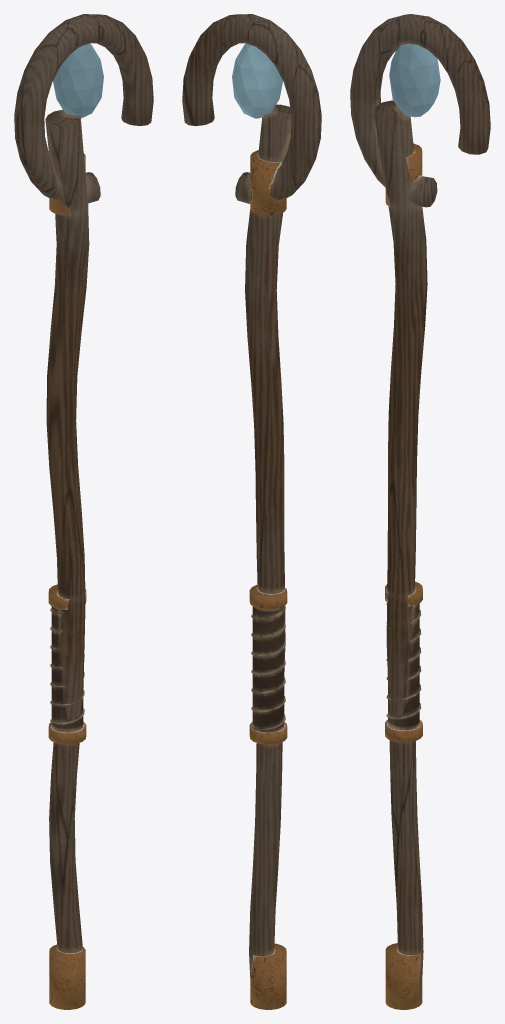
The model's file is eq_staff_1.glb.
3 renders of one model, left to right at view 1: azimuth 30°, elevation 25°; view 2: azimuth 150°, elevation 25°; view 3: azimuth 330°, elevation 25°, orthographic.
Visible parts, largest first — view 1: eq_staff_1; view 2: eq_staff_1; view 3: eq_staff_1.
Part boxes in pixels (box(x1,y1,x2,y2)): eq_staff_1: box(14, 14, 153, 1009); eq_staff_1: box(182, 14, 321, 1009); eq_staff_1: box(350, 14, 490, 1009).
Size of the model in its own units: 0.2476 by 1.71 by 0.0825.
Materials: 1 (1 with a texture image).
